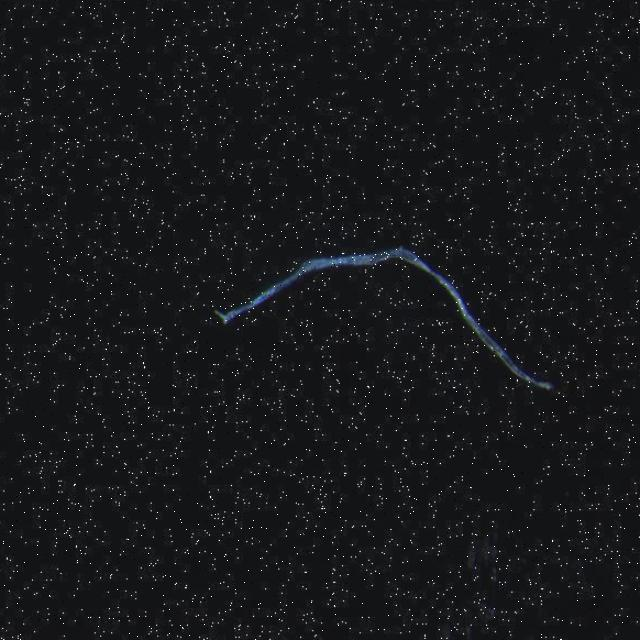Fibre: (215, 220, 550, 402)
